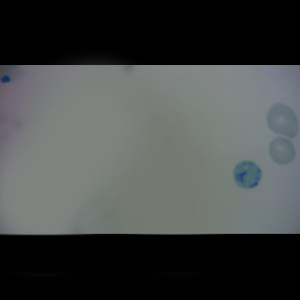aggregate reticulocyte: (231, 160, 264, 190)
erythrocyte: (265, 102, 300, 138), (268, 136, 298, 166)
